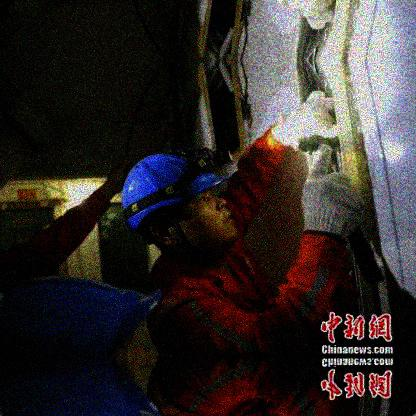helmet: (125, 150, 239, 260)
